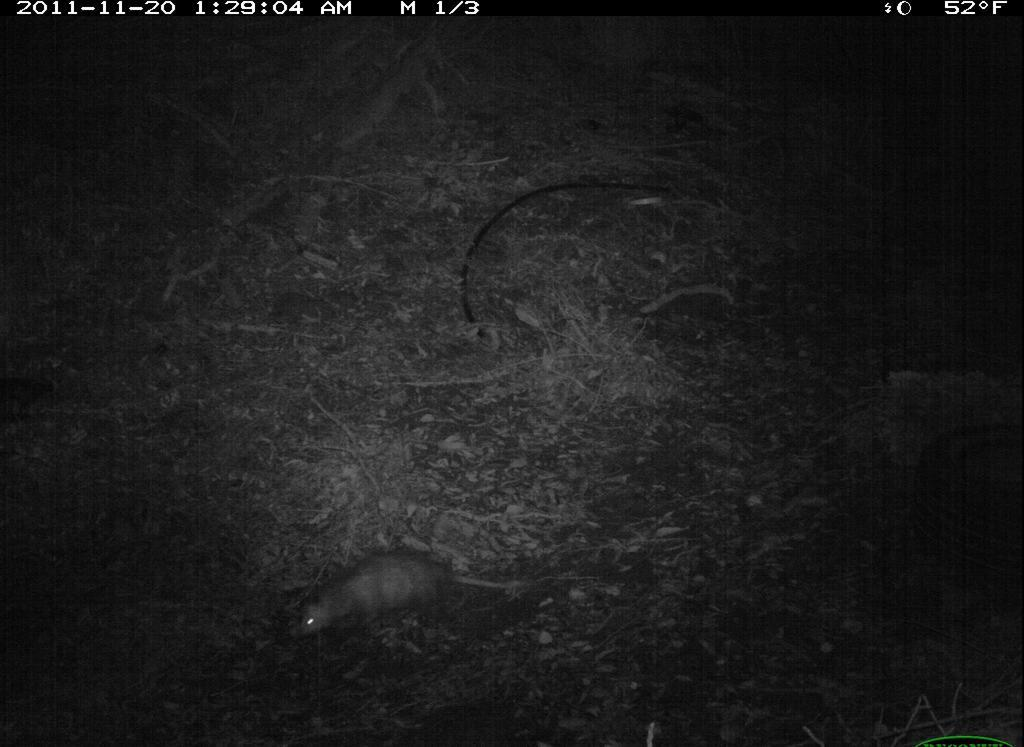opossum: (290, 543, 532, 656)
